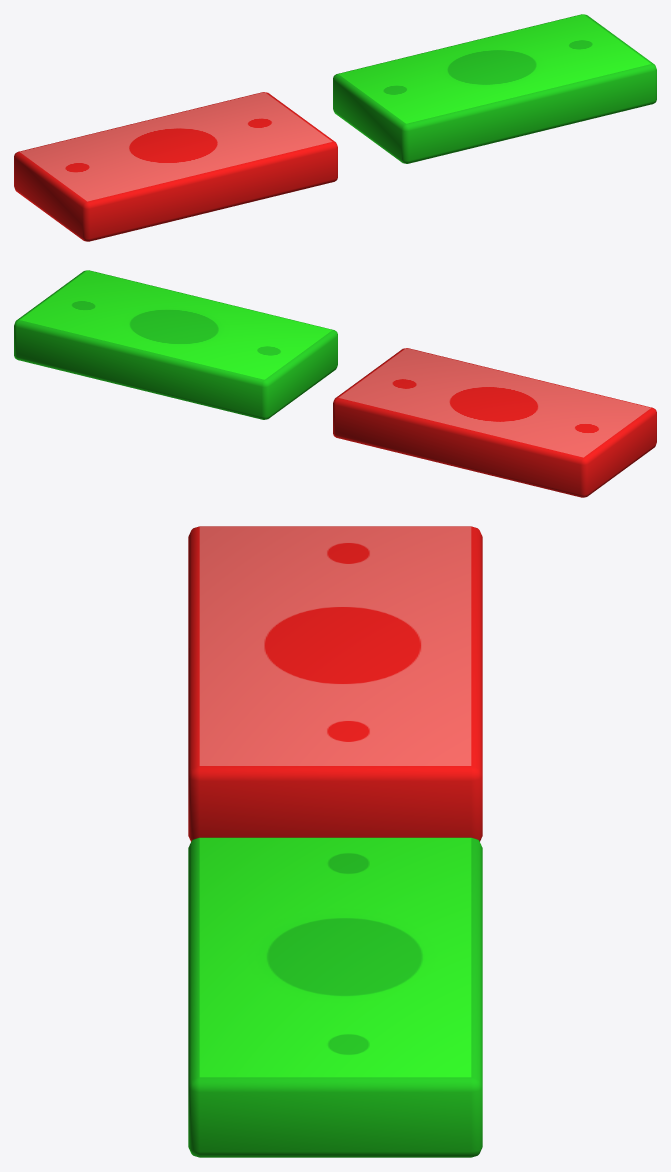
File: Money (1).fbx
3 renders of one model, top to bottom at view 1: azimuth 30°, elevation 25°; view 2: azimuth 150°, elevation 25°; view 3: azimuth 270°, elevation 25°, orthographic. The views are drawn at different scales.
Parts seen in each view (by area): view 1: Cube, Cube.001; view 2: Cube, Cube.001; view 3: Cube.001, Cube.
Part boxes in pixels (box(x1,y1,x2,y2)): Cube: box(14, 92, 337, 241); Cube.001: box(333, 14, 656, 163); Cube: box(333, 348, 656, 497); Cube.001: box(14, 270, 337, 419); Cube.001: box(188, 837, 482, 1157); Cube: box(188, 526, 482, 841).
Bounding box in the file's own units: 9 × 0.6 × 2.
1 material, 1 textured.
